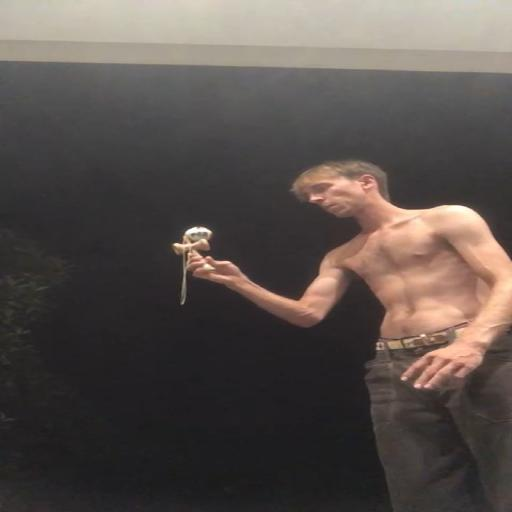kendama_ball: (184, 227, 212, 242)
